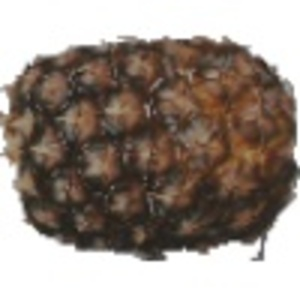abacaxi: (6, 27, 292, 257)
